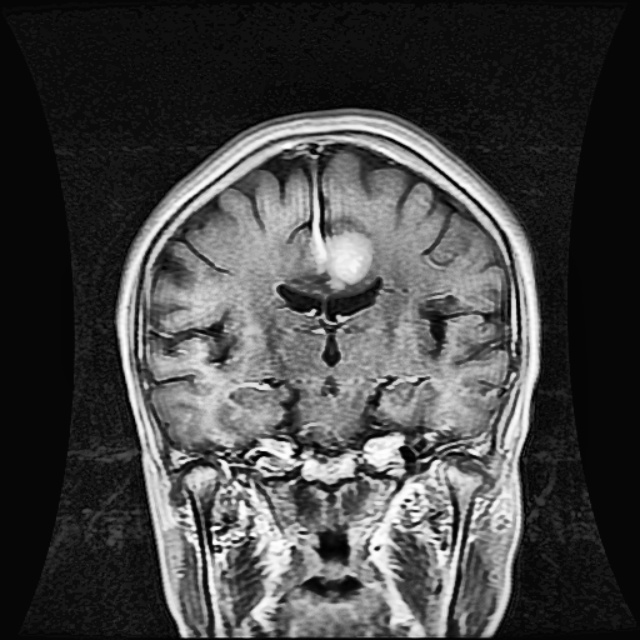Glioma: (323, 233, 372, 284)
